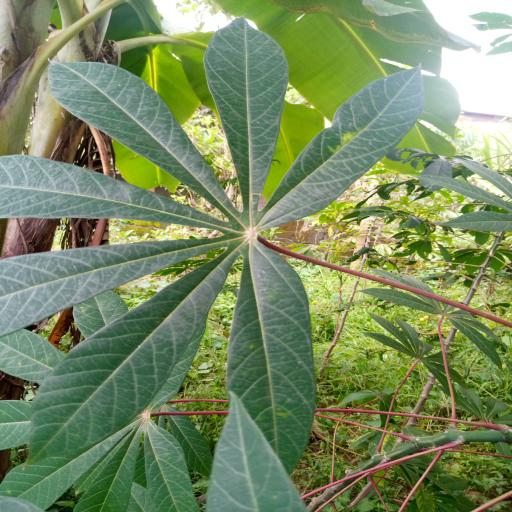Cassava_Healthy: (0, 12, 433, 484)
